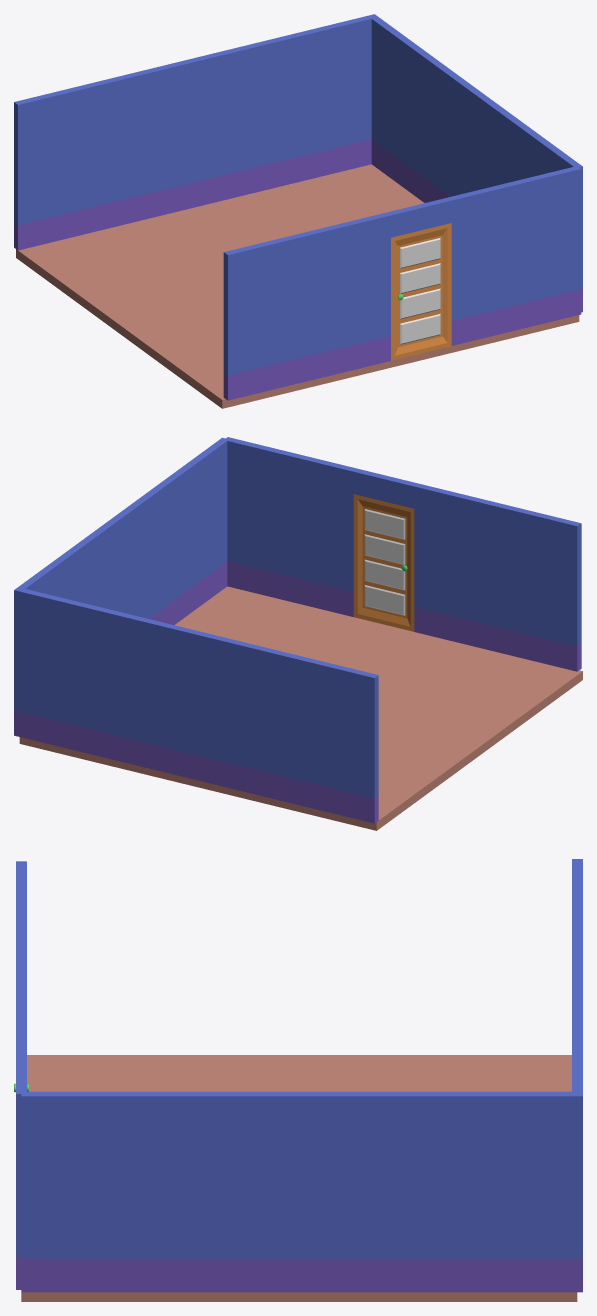
Rendered from oda2deneme.fbx.
3 views of the same model, one above another, from view 1: azimuth 30°, elevation 25°; view 2: azimuth 150°, elevation 25°; view 3: azimuth 270°, elevation 25° (orthographic). The views are drawn at different scales.
Parts seen in each view (by area): view 1: mutfak_duvar.004, mutfak_zemin.001, mutfak_duvar.006, mutfak_duvar.005, mutfak_duvar.007, kapi_1.001, mutfak_duvar.008; view 2: mutfak_duvar.004, mutfak_zemin.001, mutfak_duvar.006, mutfak_duvar.005, mutfak_duvar.007, kapi_1.001, mutfak_duvar.008; view 3: mutfak_duvar.005, mutfak_zemin.001, mutfak_duvar.004, mutfak_duvar.007, mutfak_duvar.006.
Boxes of the visible parts, box(x1,y1,x2,y2) form: mutfak_duvar.004: box(14, 14, 377, 250); mutfak_zemin.001: box(16, 164, 579, 408); mutfak_duvar.006: box(223, 212, 390, 400); mutfak_duvar.005: box(371, 17, 582, 312); mutfak_duvar.007: box(448, 167, 581, 345); kapi_1.001: box(391, 223, 451, 360); mutfak_duvar.008: box(387, 197, 451, 237); mutfak_duvar.004: box(14, 587, 378, 823); mutfak_zemin.001: box(19, 586, 582, 830); mutfak_duvar.006: box(414, 483, 581, 671); mutfak_duvar.005: box(18, 437, 228, 624); mutfak_duvar.007: box(226, 437, 357, 616); kapi_1.001: box(353, 494, 414, 631); mutfak_duvar.008: box(353, 469, 418, 508); mutfak_duvar.005: box(21, 1091, 571, 1292); mutfak_zemin.001: box(21, 1055, 577, 1301); mutfak_duvar.004: box(572, 859, 582, 1292); mutfak_duvar.007: box(16, 1008, 26, 1289); mutfak_duvar.006: box(16, 861, 26, 968).
Bounding box in the file's own units: 10.1 × 4.13 × 10.24.
